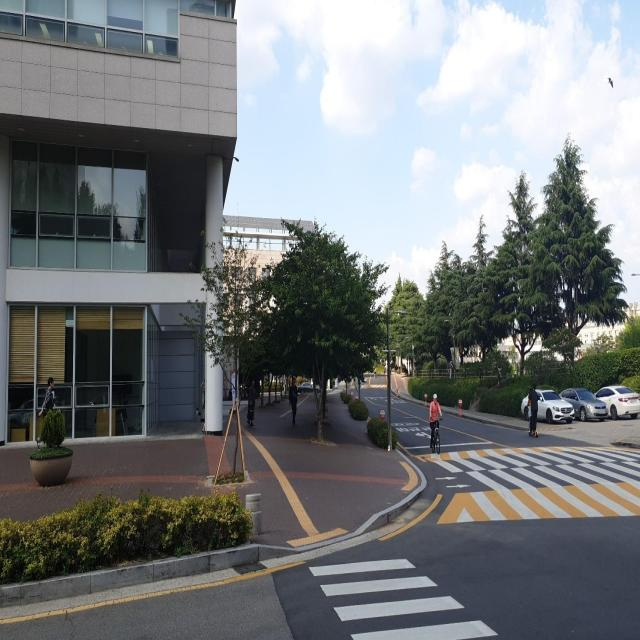횡단보도: (417, 442, 640, 518), (308, 558, 499, 640)
